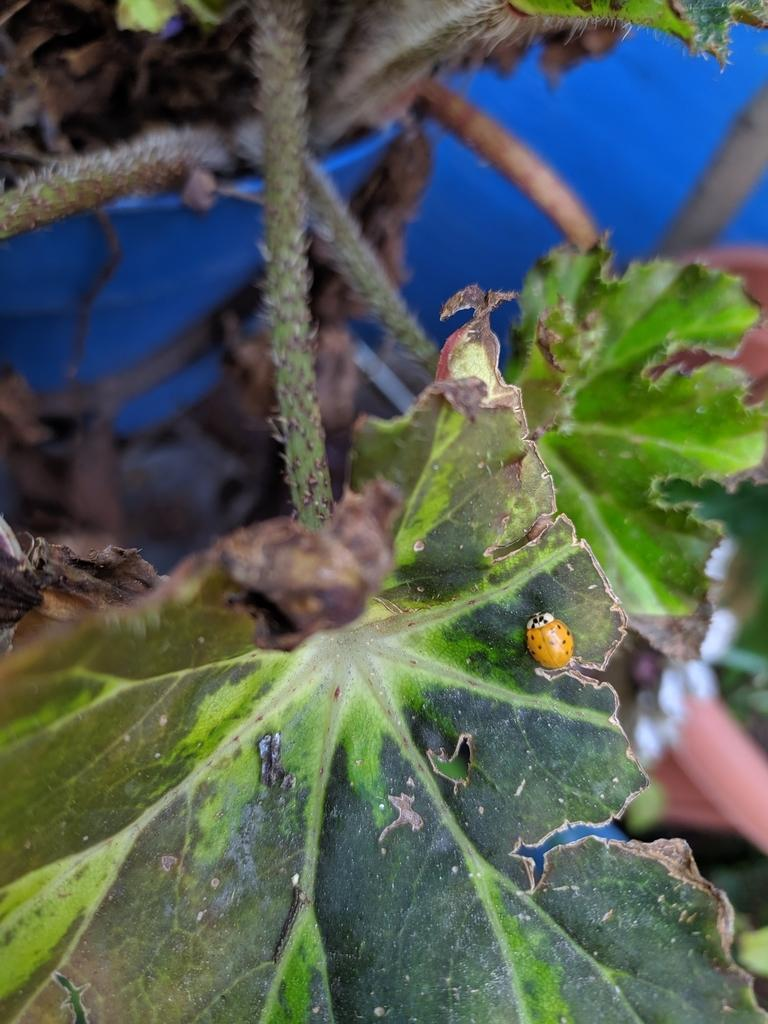ladybug: (512, 607, 578, 671)
